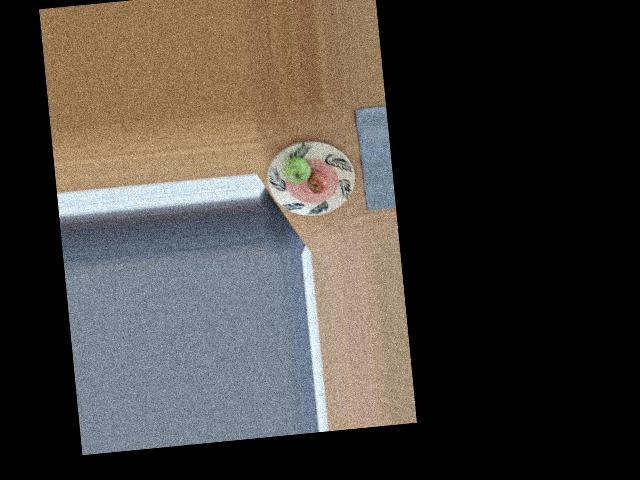apple: (280, 153, 311, 184)
